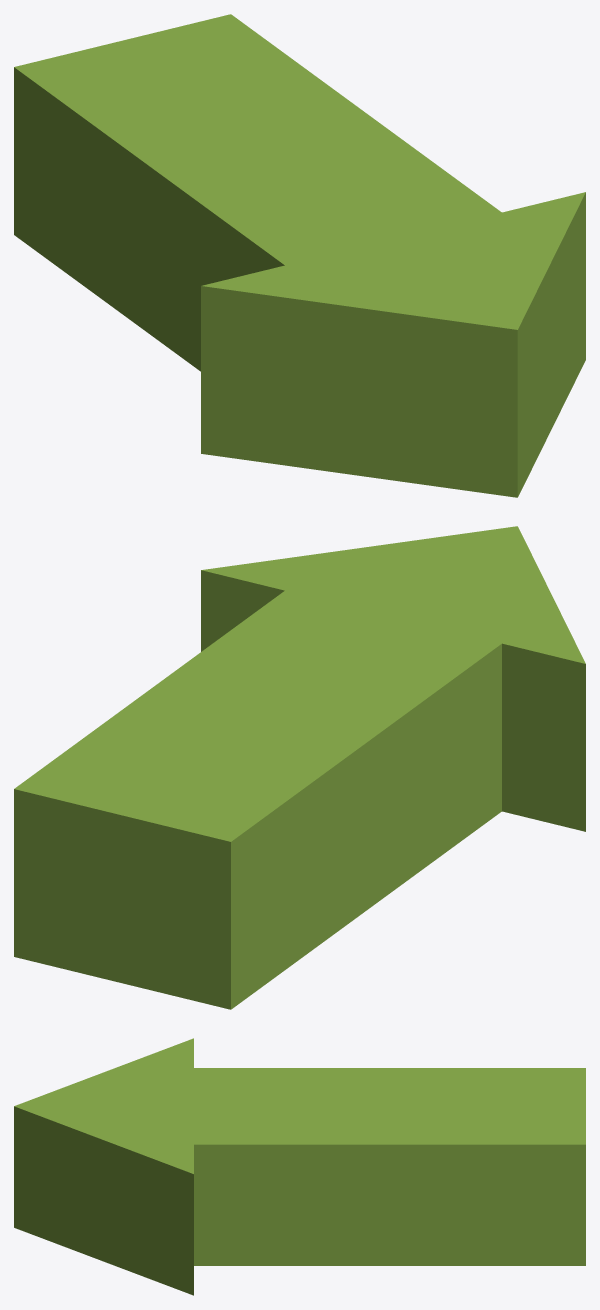
File: SM_Shape_Arrow__01.fbx
3 renders of one model, top to bottom at view 1: azimuth 30°, elevation 25°; view 2: azimuth 150°, elevation 25°; view 3: azimuth 270°, elevation 25°, orthographic. The views are drawn at different scales.
Parts seen in each view (by area): view 1: SM_Shape_Arrow__01; view 2: SM_Shape_Arrow__01; view 3: SM_Shape_Arrow__01.
Boxes of the visible parts, box(x1,y1,x2,y2) form: SM_Shape_Arrow__01: box(14, 14, 585, 497); SM_Shape_Arrow__01: box(14, 526, 585, 1009); SM_Shape_Arrow__01: box(14, 1038, 585, 1295).
Bounding box in the file's own units: 5.94 × 2.47 × 10.56.
